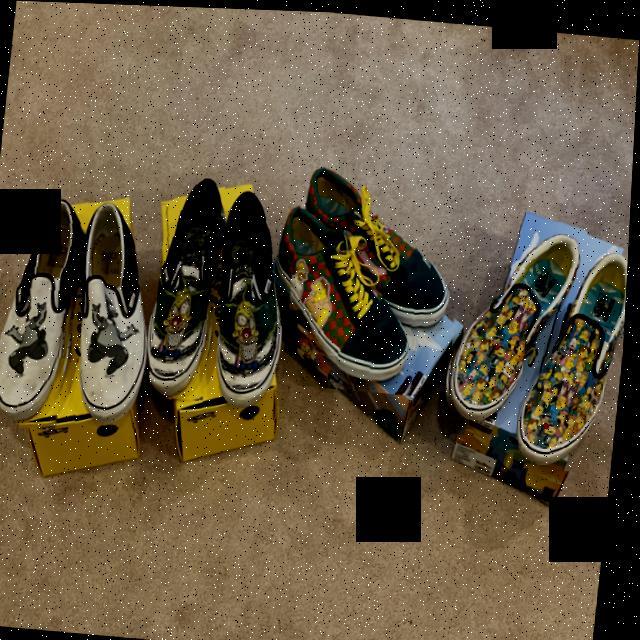shoe: (263, 197, 442, 394), (443, 210, 591, 440), (295, 157, 472, 331), (518, 238, 631, 472), (65, 192, 170, 428), (206, 179, 304, 418), (0, 184, 93, 432), (144, 167, 237, 403)
